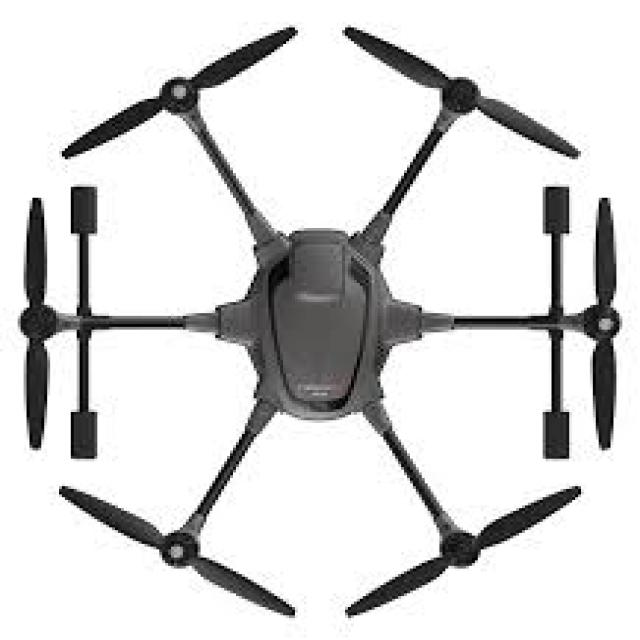drone: (3, 18, 640, 624)
